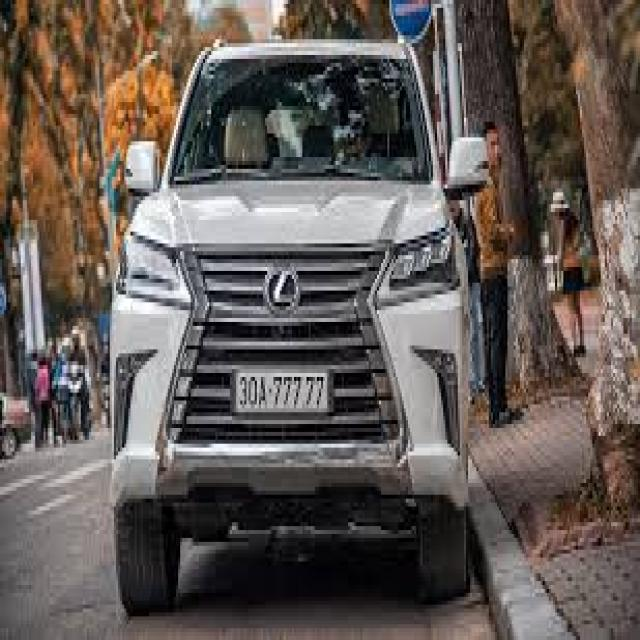bien_so: (230, 356, 336, 428)
